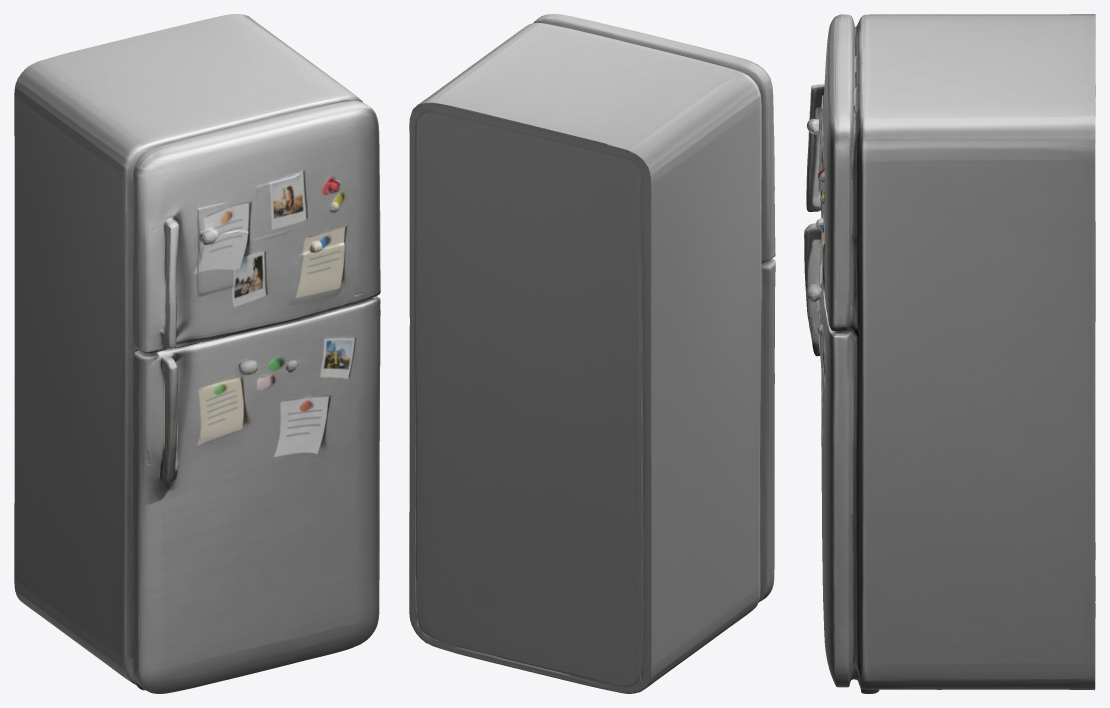
The model's file is fridge.glb.
3 views of the same model, side by side, from view 1: azimuth 30°, elevation 25°; view 2: azimuth 150°, elevation 25°; view 3: azimuth 270°, elevation 25° (orthographic). The views are drawn at different scales.
Visible parts, largest first — view 1: geometry_0; view 2: geometry_0; view 3: geometry_0.
Part boxes in pixels (x1,y1,x2,y2): geometry_0: (14, 14, 380, 693); geometry_0: (409, 14, 775, 693); geometry_0: (804, 14, 1095, 693).
Size of the model in its own units: 0.4635 by 0.9978 by 0.4583.
1 material, 1 textured.
